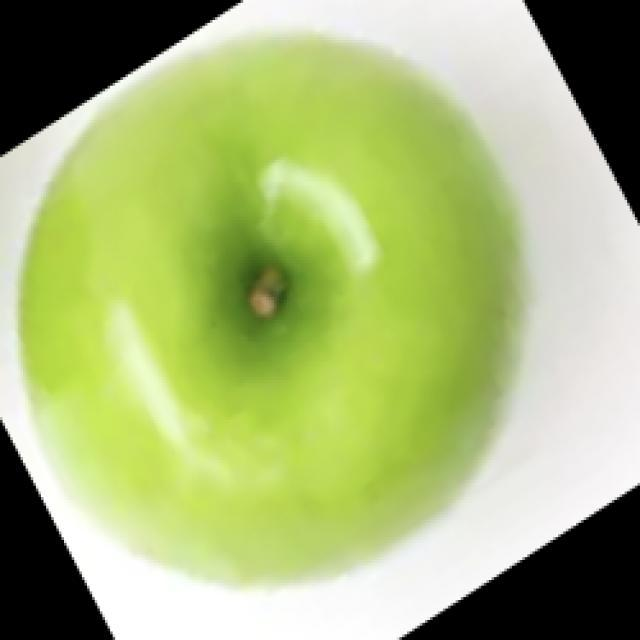Fresh Apple: (50, 38, 492, 590)
